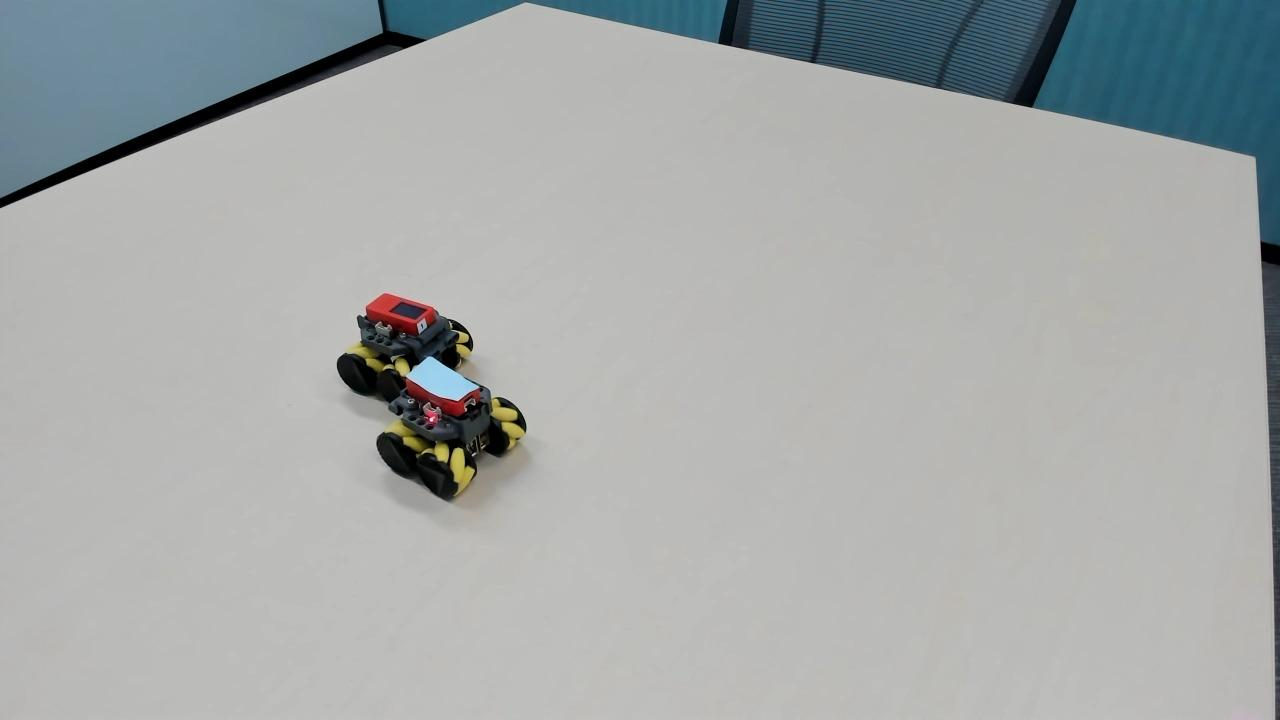B-Robot: (351, 358, 538, 504)
R-Robot: (331, 279, 479, 361)
